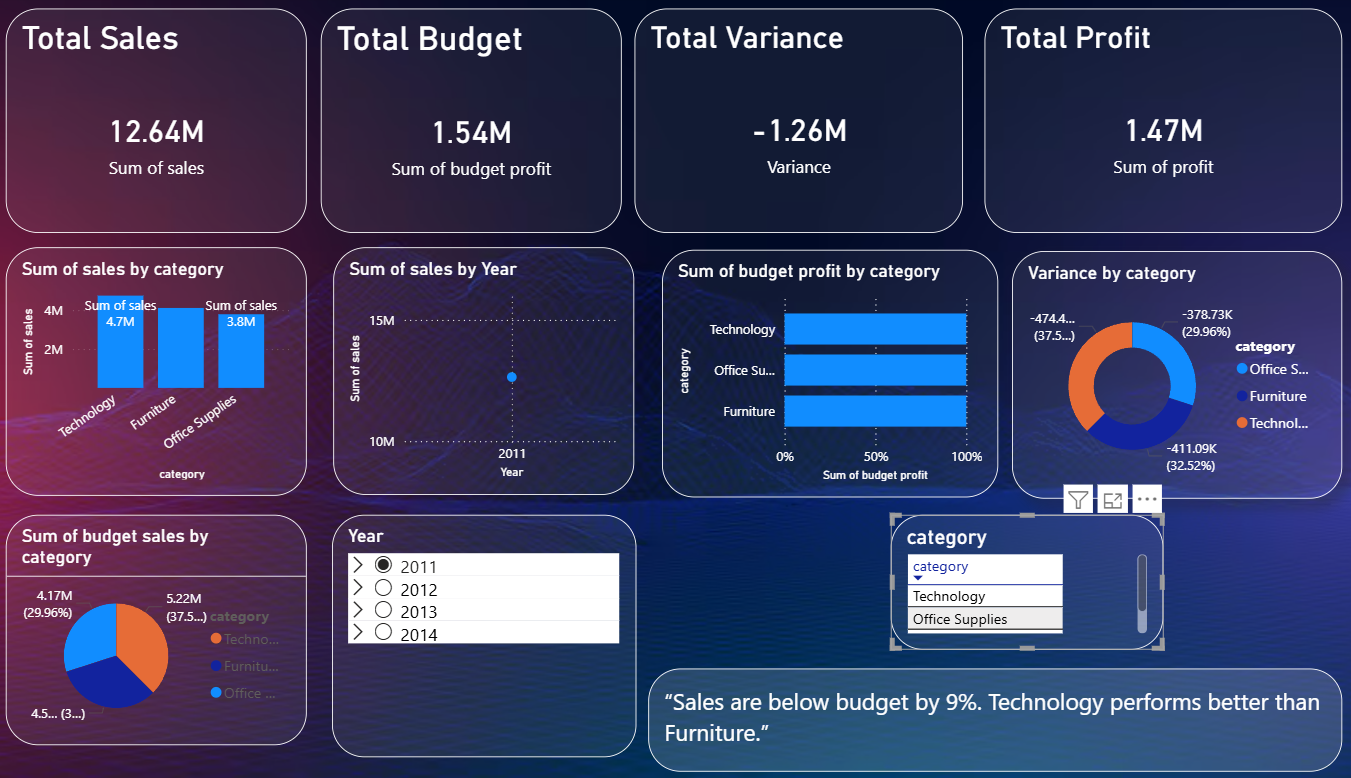

The dashboard page shown, as its layout file describes it:
{"tool":"powerbi","page":{"name":"Page 2","canvas":[1280,733],"ordinal":1},"visuals":[{"type":"card","title":"Total Sales","fields":{"Values":["Sum(actual dataset.sales)"]},"box":[12.9,11.4,280,208.6],"z":0},{"type":"card","title":"Total Budget","fields":{"Values":["Sum(budget dataset.budget profit)"]},"box":[305.7,11.4,280,208.6],"z":1000},{"type":"card","title":"Total Variance","fields":{"Values":["actual dataset.Variance"]},"box":[597.1,11.4,305.7,208.6],"z":2000},{"type":"card","title":"Total Profit","fields":{"Values":["Sum(actual dataset.profit)"]},"box":[922.9,11.4,332.9,208.6],"z":3000},{"type":"clusteredColumnChart","fields":{"Category":["actual dataset.category"],"Y":["Sum(actual dataset.sales)"]},"box":[12.9,234.3,280,231.4],"z":4000},{"type":"lineChart","fields":{"Category":["date dataset.year-month.Variation.Date Hierarchy.Year","date dataset.year-month.Variation.Date Hierarchy.Quarter","date dataset.year-month.Variation.Date Hierarchy.Month","date dataset.year-month.Variation.Date Hierarchy.Day"],"Y":["Sum(actual dataset.sales)"]},"box":[317.1,234.3,280,230],"z":5000},{"type":"hundredPercentStackedBarChart","fields":{"Category":["actual dataset.category"],"Y":["Sum(budget dataset.budget profit)"]},"box":[622.9,235.7,312.9,230],"z":6000},{"type":"donutChart","fields":{"Category":["actual dataset.category"],"Y":["actual dataset.Variance"]},"box":[948.6,237.1,307.1,230],"z":7000},{"type":"tableEx","title":"category ","fields":{"Values":["actual dataset.category"]},"box":[982.9,482.9,252.9,125.7],"z":8000},{"type":"listSlicer","fields":{"Values":["date dataset.year-month.Variation.Date Hierarchy.Year","date dataset.year-month.Variation.Date Hierarchy.Quarter","date dataset.year-month.Variation.Date Hierarchy.Month","date dataset.year-month.Variation.Date Hierarchy.Day"]},"box":[315.7,482.9,282.9,225.7],"z":9000},{"type":"pieChart","fields":{"Category":["actual dataset.category"],"Y":["Sum(budget dataset.budget sales)"]},"box":[13,483,280,214],"z":10000},{"type":"textbox","box":[610,625.7,645.7,95.7],"z":11000}]}

Visuals, with their boxes in screenshot pixels (x1, y1, x2, y2), scaled from the page's 1280x733 canvas onto the 1351x778 screenshot:
"Total Sales" card: crop(14, 12, 309, 234)
"Total Budget" card: crop(323, 12, 618, 234)
"Total Variance" card: crop(630, 12, 953, 234)
"Total Profit" card: crop(974, 12, 1325, 234)
clusteredColumnChart - actual dataset.category x Sum(actual dataset.sales): crop(14, 249, 309, 494)
lineChart - date dataset.year-month.Variation.Date Hierarchy.Year x date dataset.year-month.Variation.Date Hierarchy.Quarter: crop(335, 249, 630, 493)
hundredPercentStackedBarChart - actual dataset.category x Sum(budget dataset.budget profit): crop(657, 250, 988, 494)
donutChart - actual dataset.category x actual dataset.Variance: crop(1001, 252, 1325, 496)
"category " tableEx: crop(1037, 513, 1304, 646)
listSlicer - date dataset.year-month.Variation.Date Hierarchy.Year x date dataset.year-month.Variation.Date Hierarchy.Quarter: crop(333, 513, 632, 752)
pieChart - actual dataset.category x Sum(budget dataset.budget sales): crop(14, 513, 309, 740)
textbox: crop(644, 664, 1325, 766)
